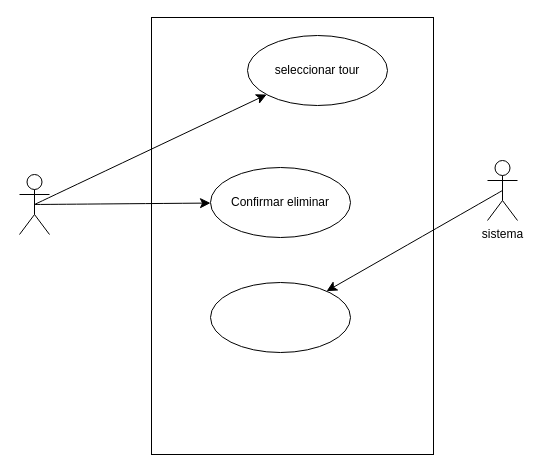
Some shapes in this 540 by 472 pixel diagram are drawn without their labels. The shapes that lost their labels are listed below. From the top down, each one's centre as x and y in pixels, then its label:
the point at 34,204: Admin
the point at 280,317: eliminar tour
